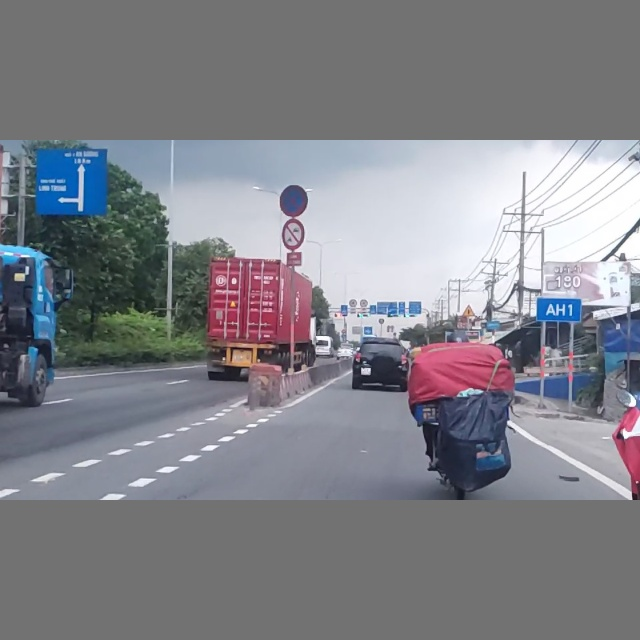B.8a: (281, 219, 306, 249)
P.111: (280, 218, 306, 249)
P.130: (279, 185, 308, 217)
